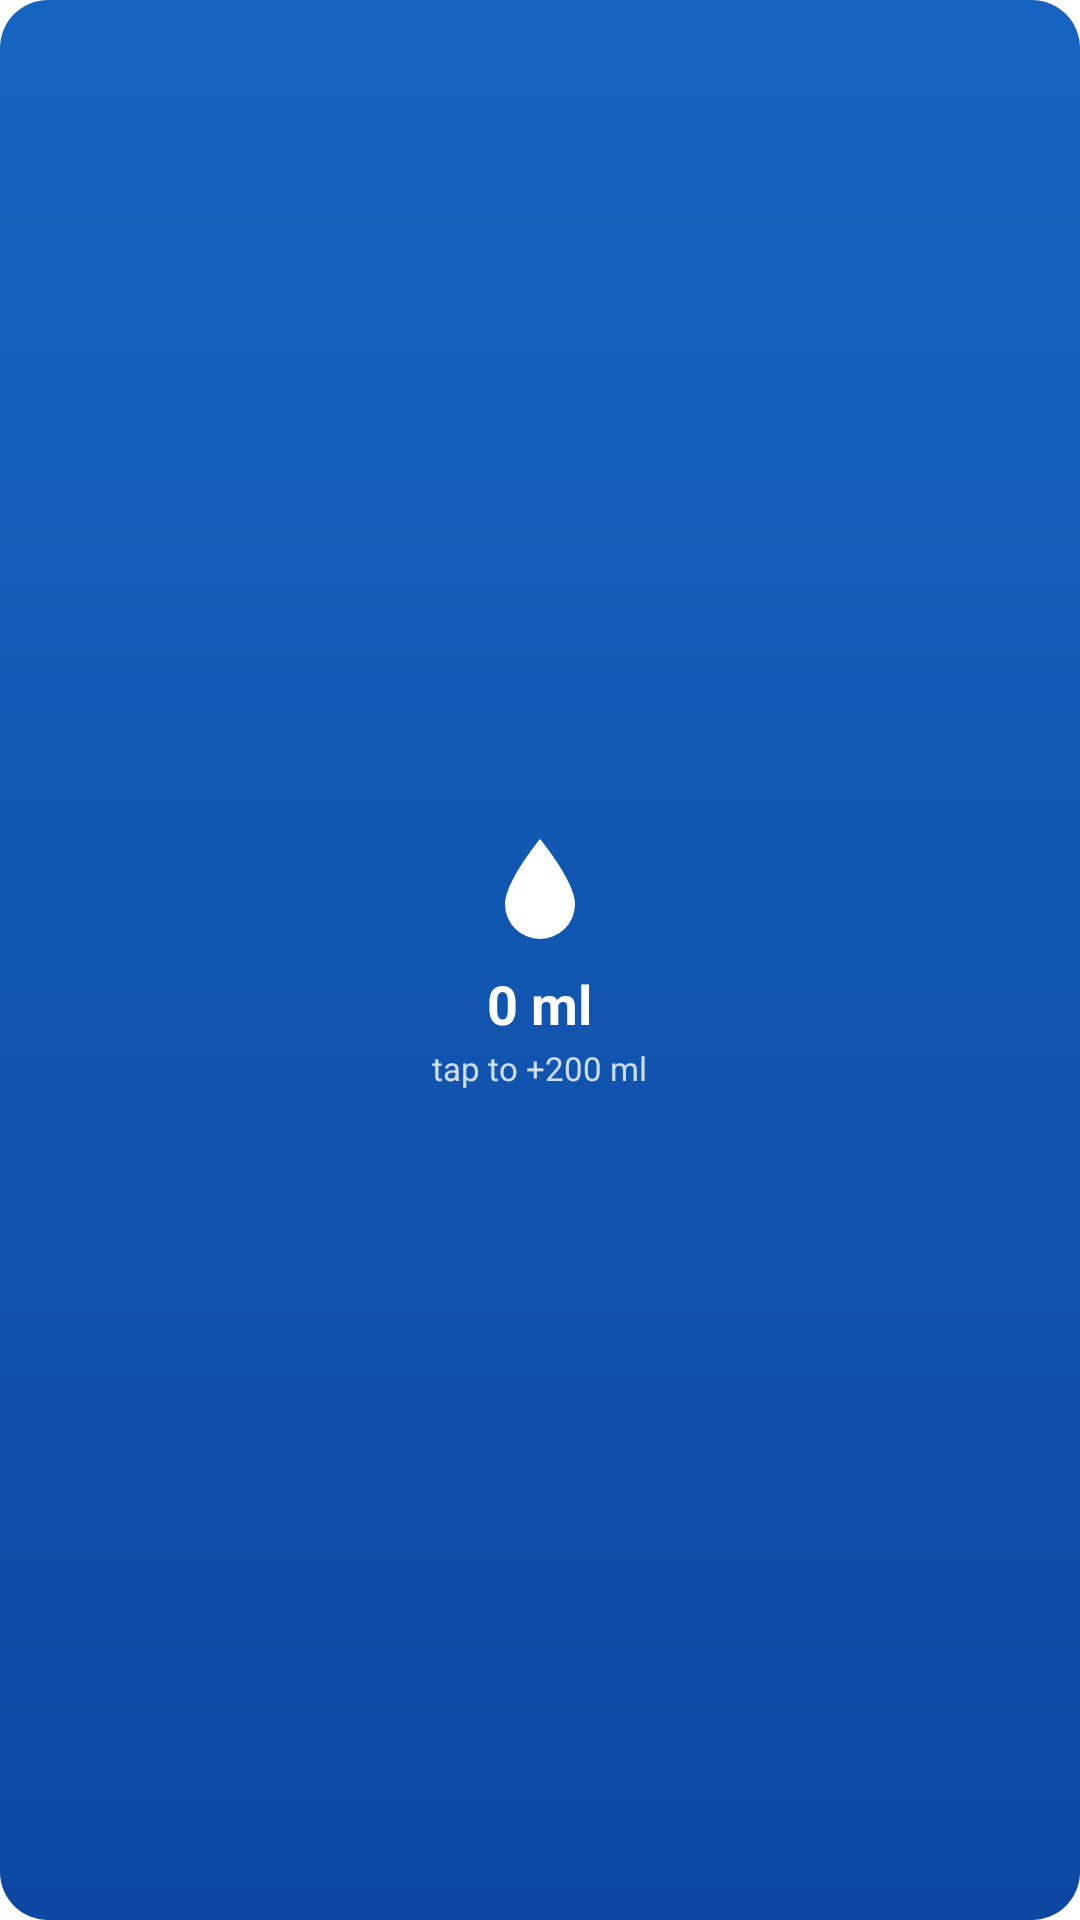

Icons on this 1080 x 1920 Android screen, each with its box as bbox(x1, y1, x2, y2):
Water drop icon: bbox(505, 839, 575, 939)
